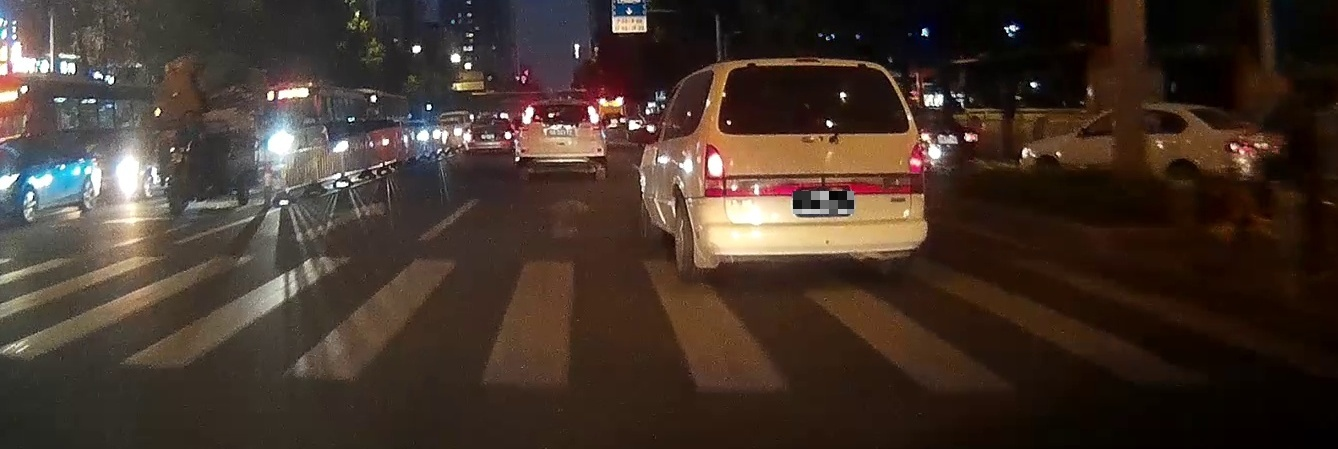L_light: (705, 145, 723, 179), (520, 106, 533, 125)
R_light: (909, 143, 924, 174), (587, 105, 599, 123)
T_light: (795, 66, 822, 73), (553, 105, 566, 108)
night-left: (701, 58, 929, 280)
night-no: (517, 100, 606, 182)
plate_1: (793, 191, 854, 214)
